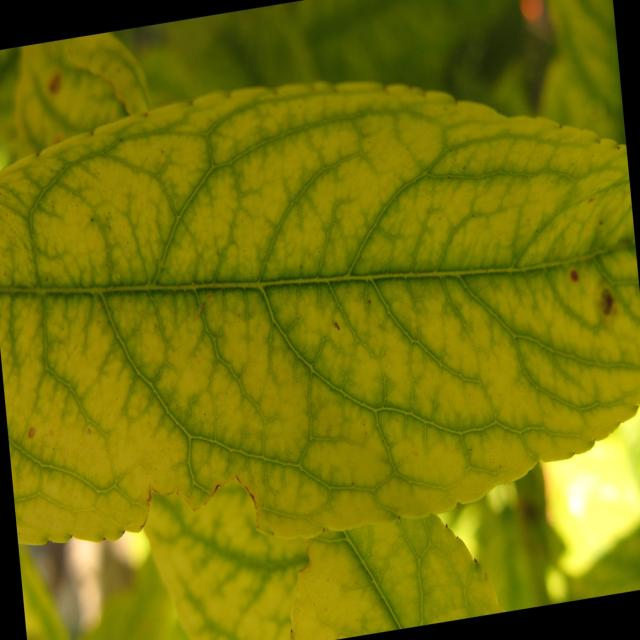Chlorosis: (1, 60, 640, 587)
